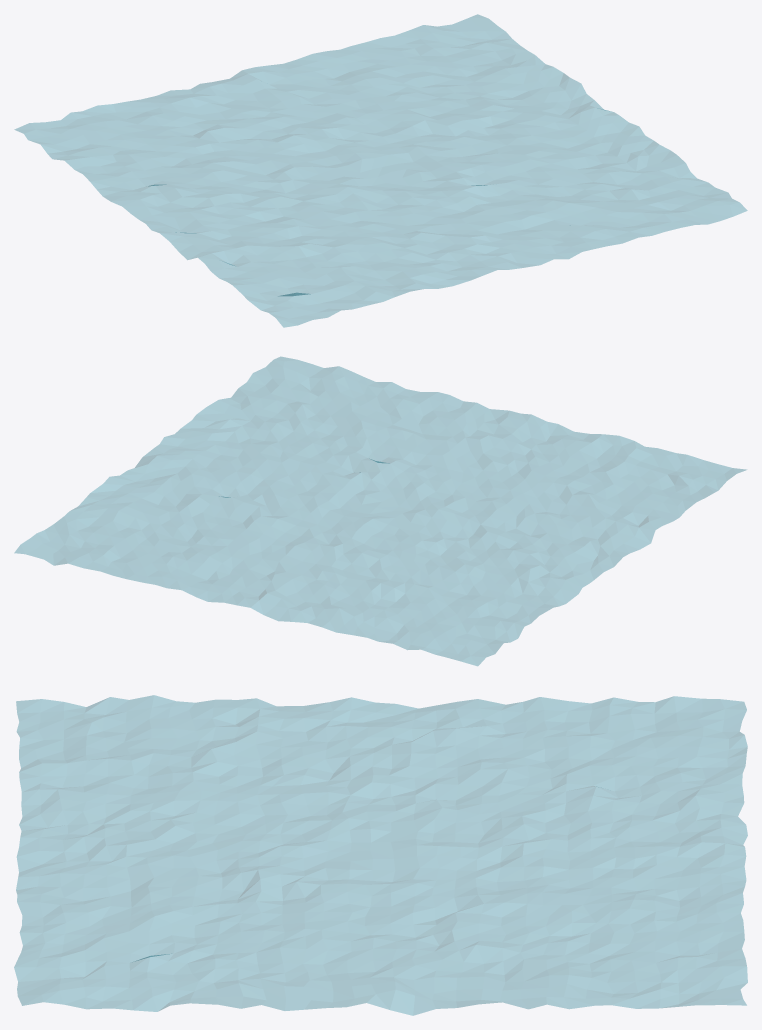
File: water2.fbx
The picture shows the model from 3 angles, top to bottom: view 1: azimuth 30°, elevation 25°; view 2: azimuth 150°, elevation 25°; view 3: azimuth 270°, elevation 25°; orthographic projection. The views are drawn at different scales.
Visible parts, largest first — view 1: Plane; view 2: Plane; view 3: Plane.
Part boxes in pixels (x1=…): Plane: x1=14, y1=14, x2=747, y2=327; Plane: x1=14, y1=356, x2=746, y2=666; Plane: x1=14, y1=695, x2=747, y2=1015.
Bounding box in the file's own units: 16.06 × 0.3934 × 16.03.
